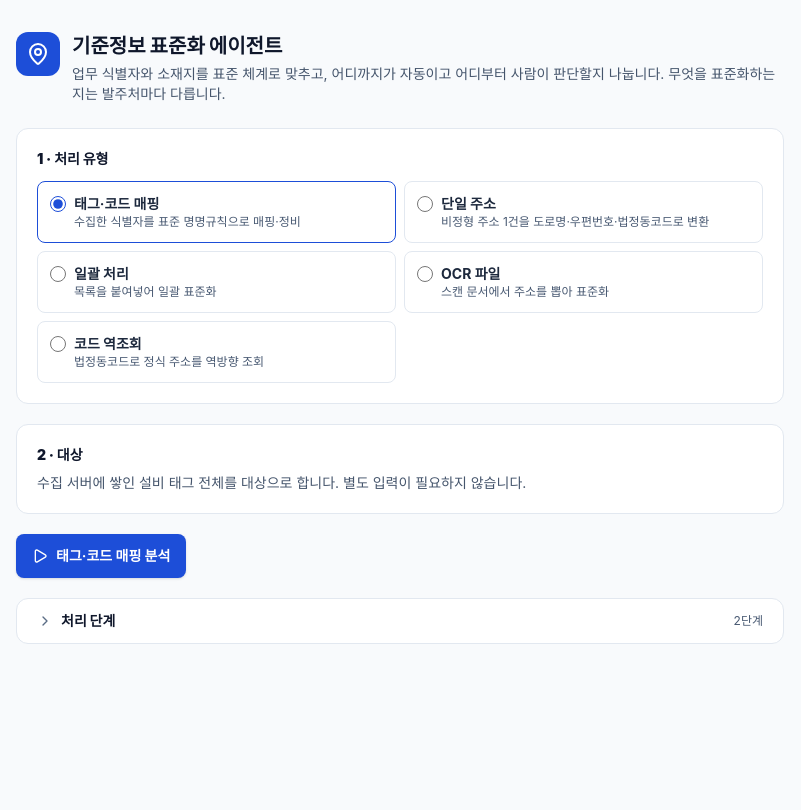
it: MappingPage › 표준화 불가 후보는 무엇이 필요한지 밝힌다
Click the button "태그·코드 매핑 분석". click: {"x": 101, "y": 556}
box: [16,534,186,578]
(page scrolled)
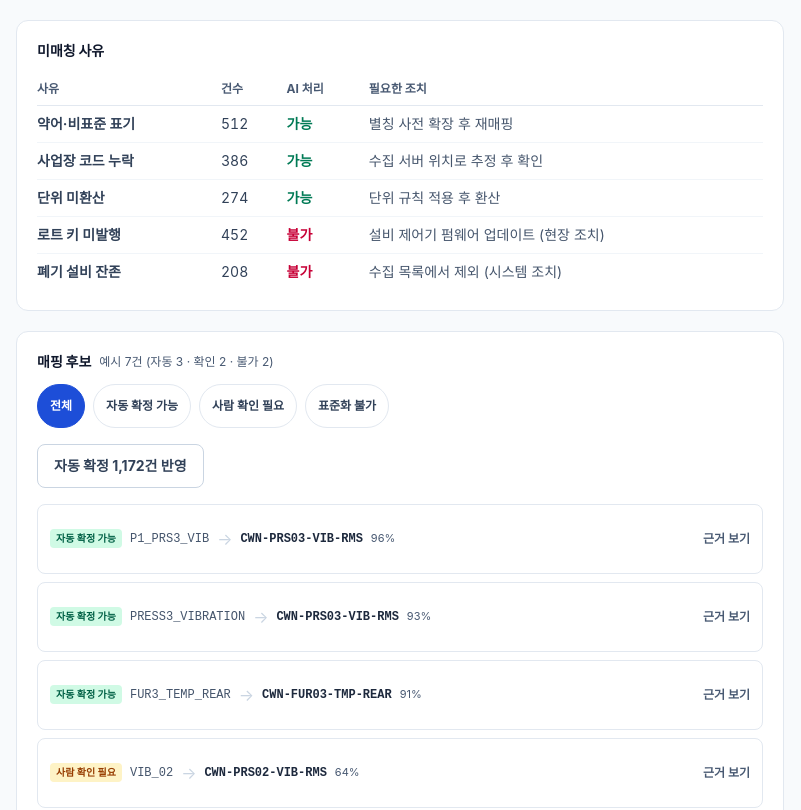
Click the button "표준화 불가". click: {"x": 347, "y": 406}
box: [305,384,389,428]
(page scrolled)
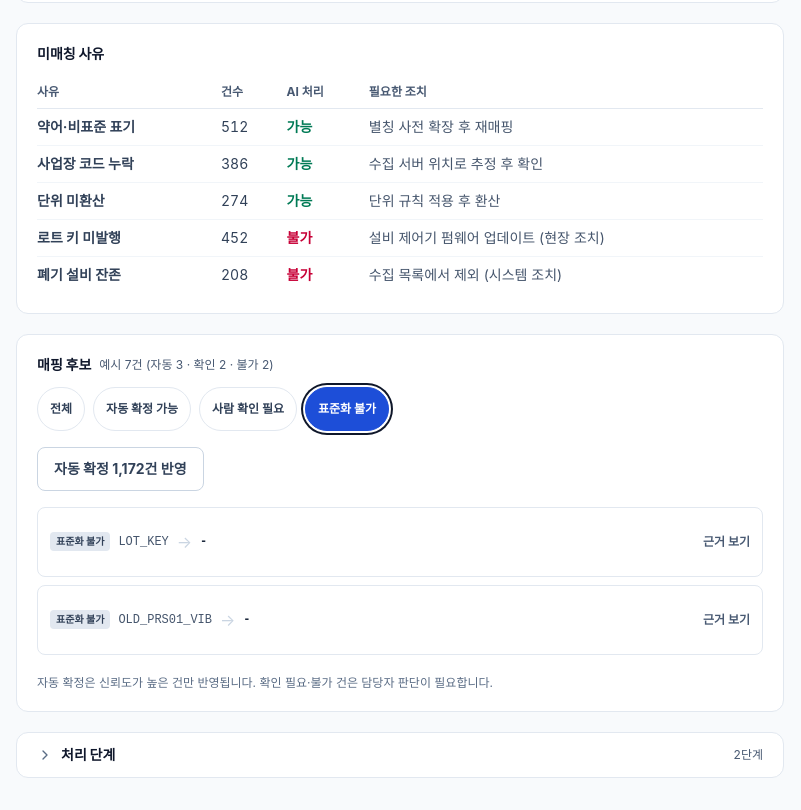
Click the button "근거 보기" in the row of "LOT_KEY". click: {"x": 726, "y": 542}
box: [703,520,750,564]
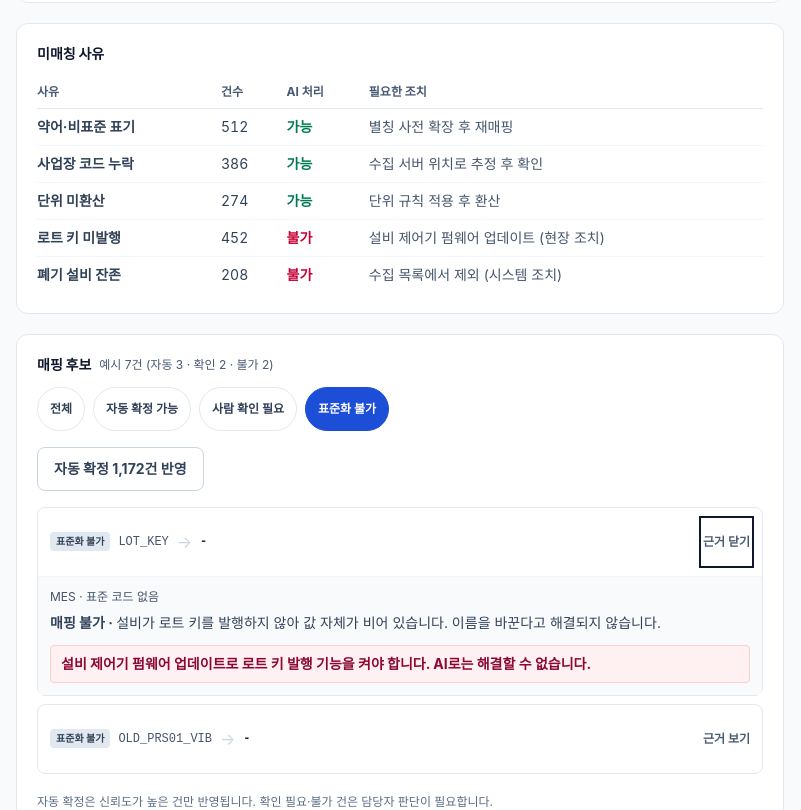
Now the text "설비 제어기 펌웨어 업데이트로 로트 키 발행 기능을 켜야 합니다. AI로는 해결할 수 없습니다." is shown, box [50,644,750,682]
